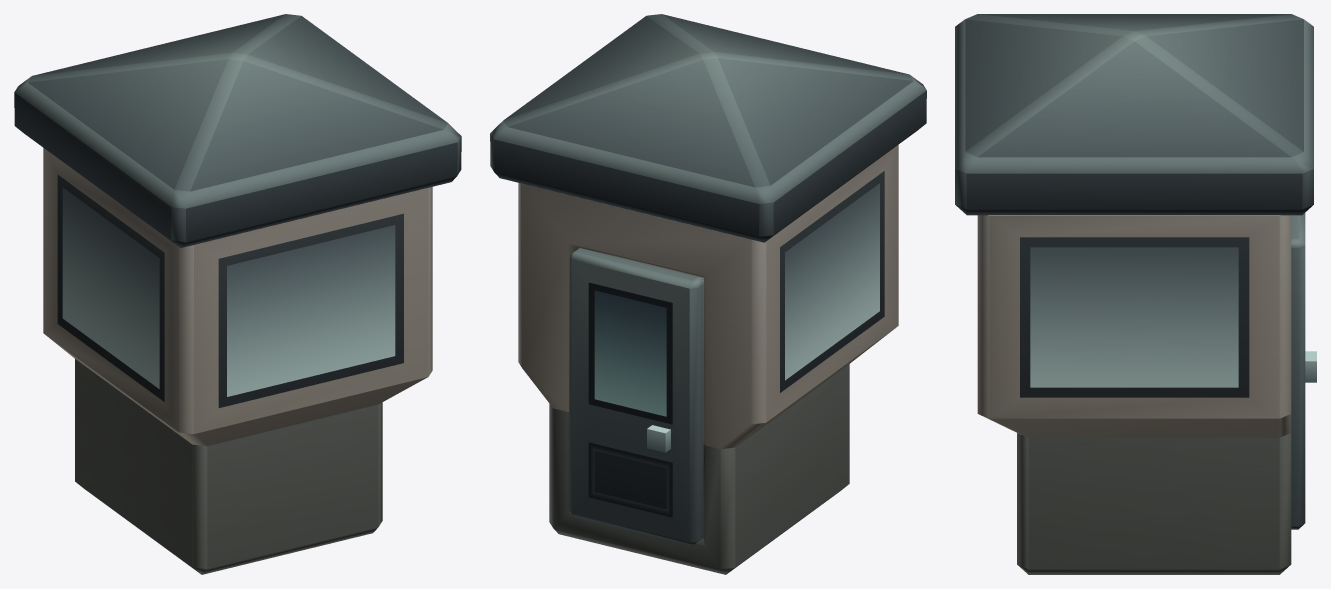
File: guard_house.fbx
The picture shows the model from 3 angles, left to right: view 1: azimuth 30°, elevation 25°; view 2: azimuth 150°, elevation 25°; view 3: azimuth 270°, elevation 25°; orthographic projection. The views are drawn at different scales.
Visible parts, largest first — view 1: guard_house; view 2: guard_house, guard_house_door; view 3: guard_house, guard_house_door.
Boxes of the visible parts, x1,y1,x2,y2 form: guard_house: (14,14,461,574); guard_house: (490,14,926,574); guard_house_door: (569,248,703,545); guard_house: (955,14,1313,574); guard_house_door: (1291,213,1316,529).
Size of the model in its own units: 229 by 347 by 231.
